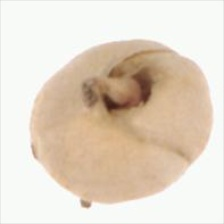L3: (97, 60, 149, 120)
L4: (30, 38, 213, 205)
